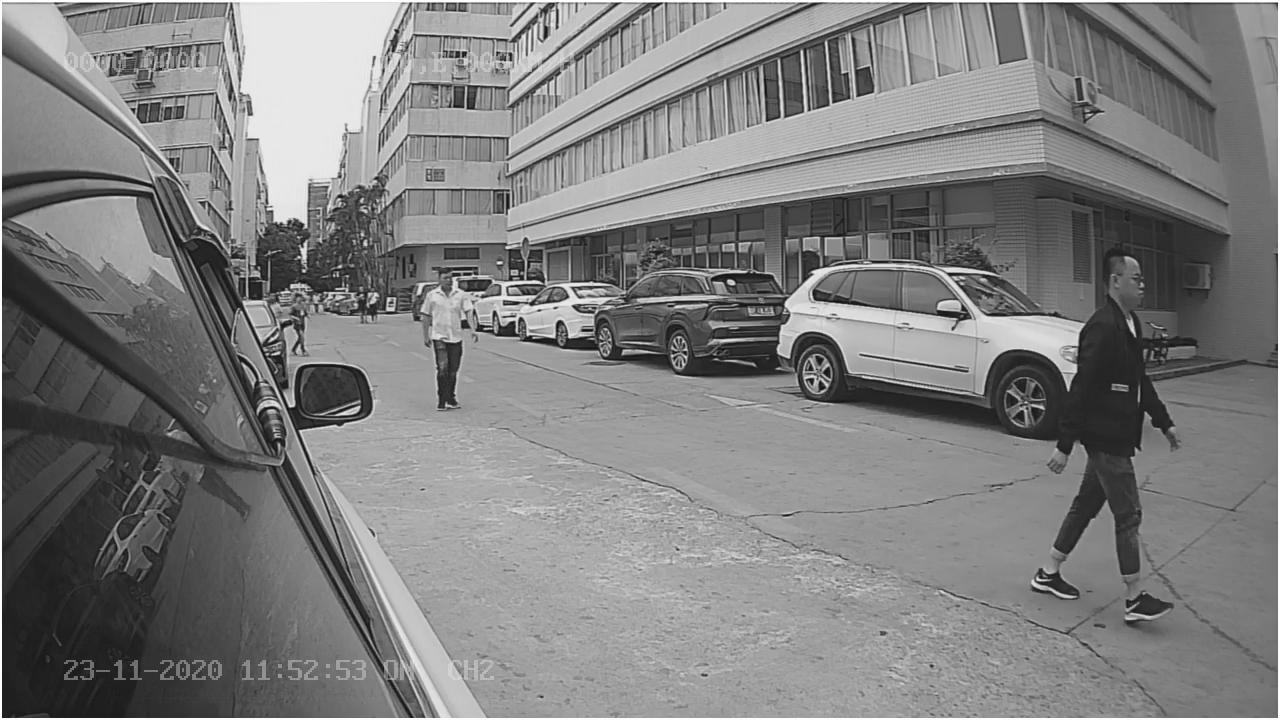person: (1054, 237, 1160, 608)
